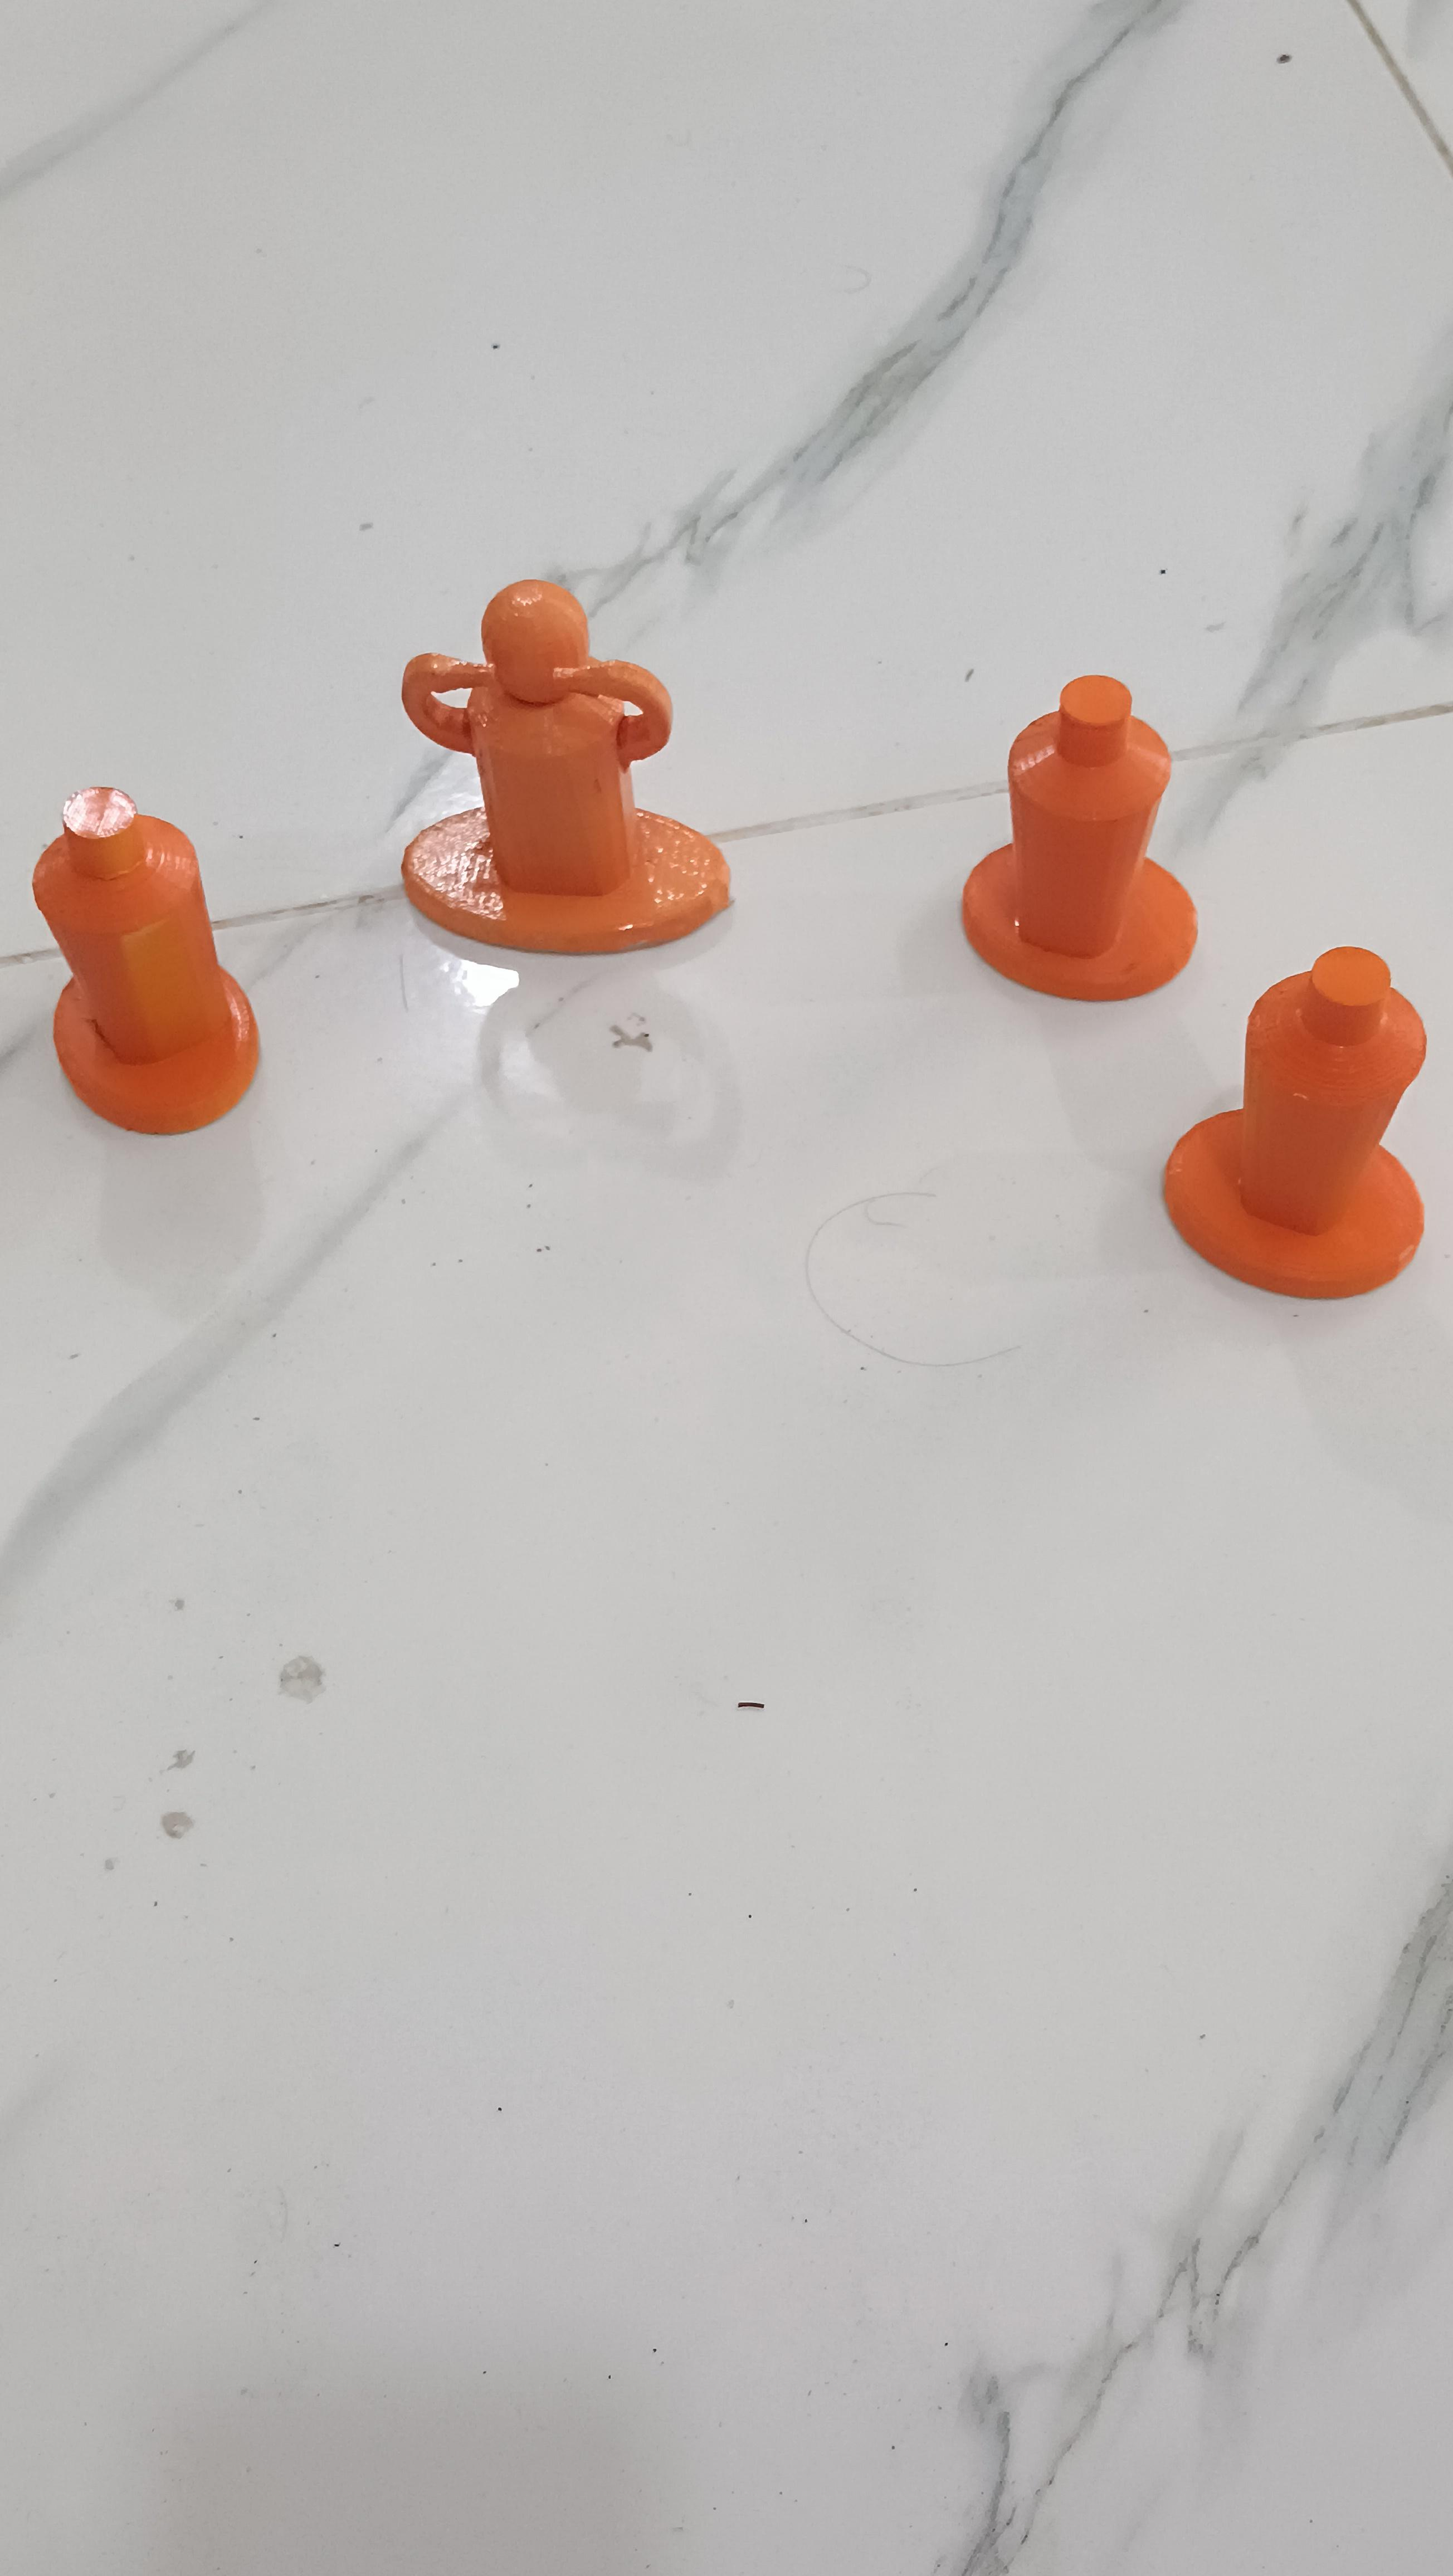dummy: (8, 749, 291, 1171), (1176, 937, 1444, 1314), (957, 652, 1210, 1030)
real_person: (359, 582, 738, 978)
